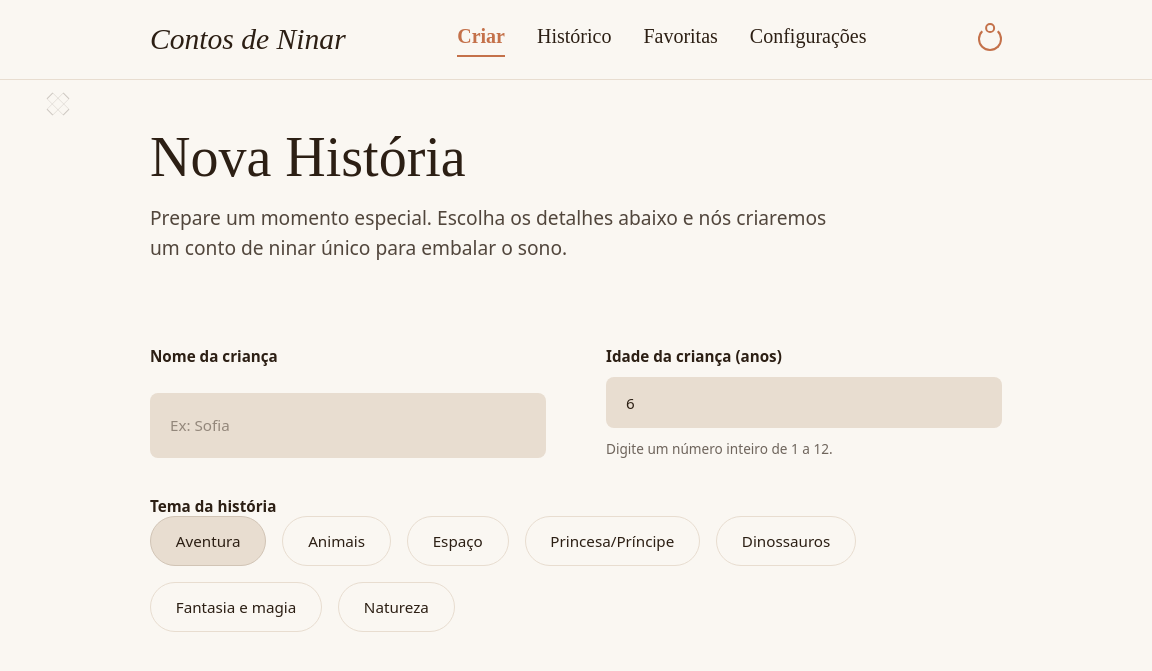
Scenario: User settings › saves settings locally and shows Portuguese save feedback
Click the tab "Configurações". click: click(808, 39)
box: [750,21,866,57]
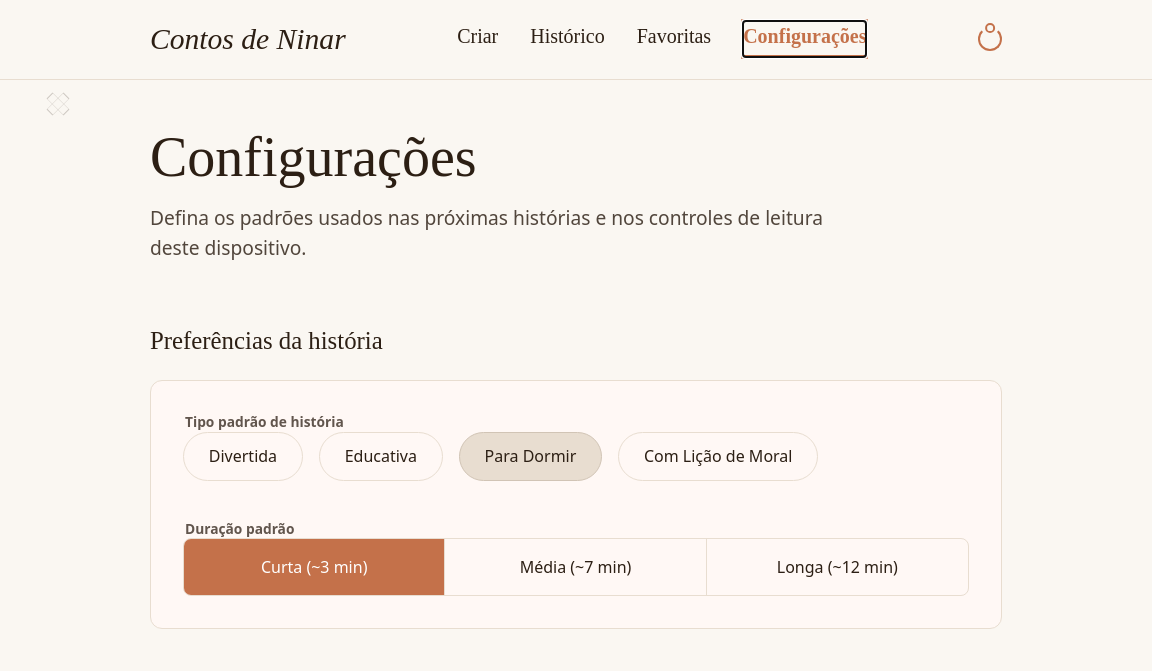
Click the button "Educativa". click: click(381, 456)
box: [319,432,443,481]
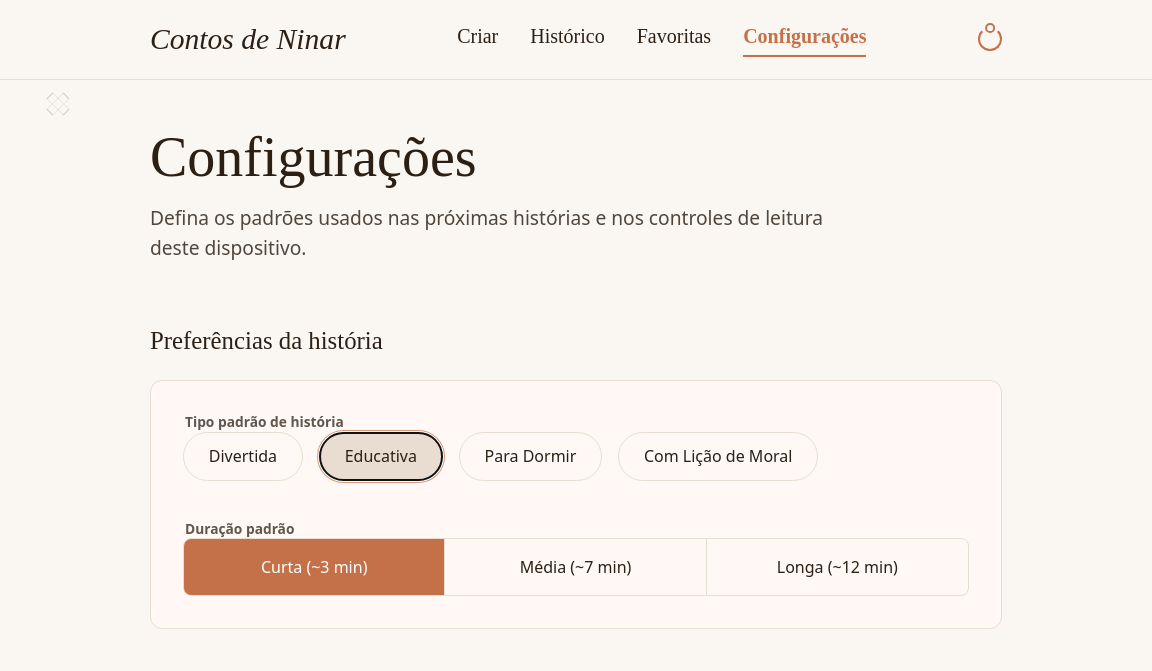
Click the button "Longa (~12 min)". click: click(837, 567)
box: [707,539,968,595]
(page scrolled)
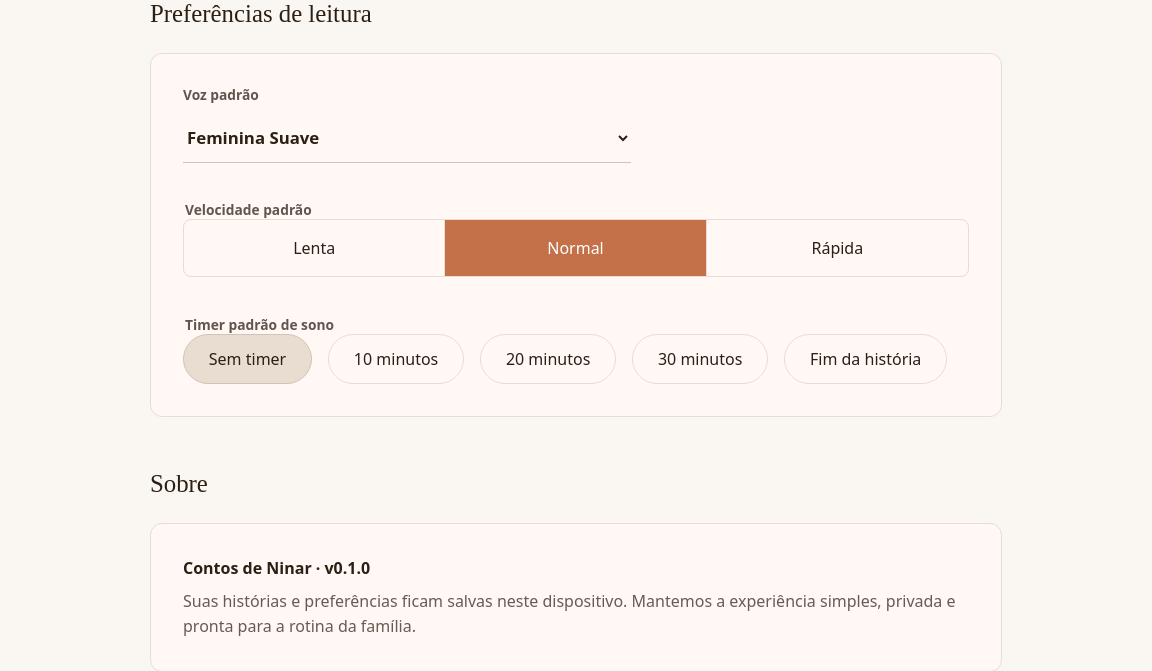
Click the button "20 minutos". click: click(548, 359)
box: [480,334,616,384]
(page scrolled)
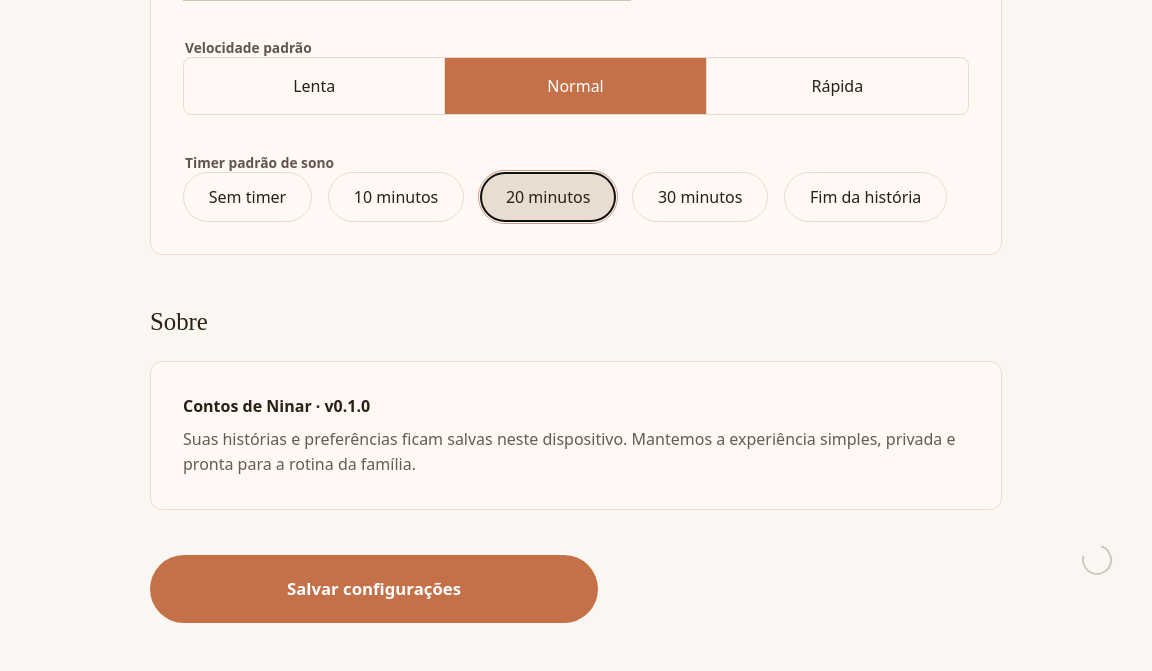
Click the button "Salvar configurações". click: click(374, 589)
box: [150,555,598,623]
(page scrolled)
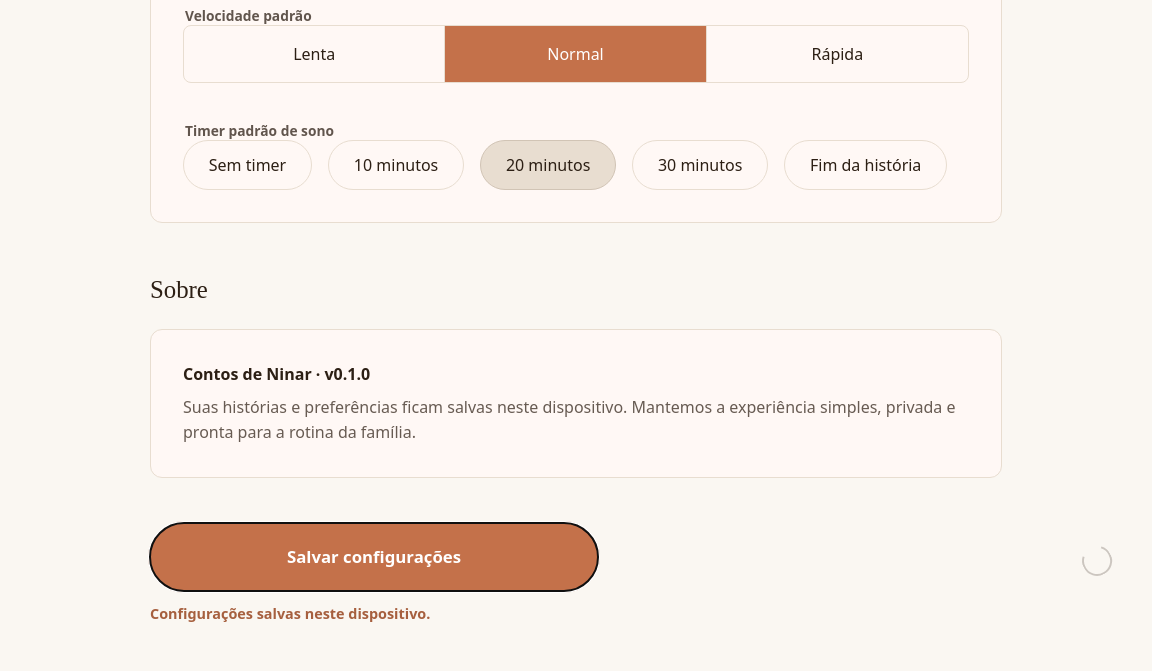
Expected: the text "Configurações salvas neste dispositivo." is shown, [150,604,430,623]
